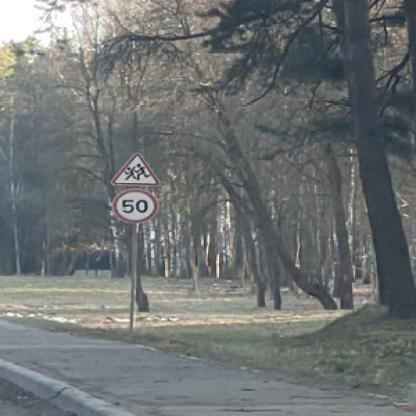speedlimit: (109, 188, 154, 222)
